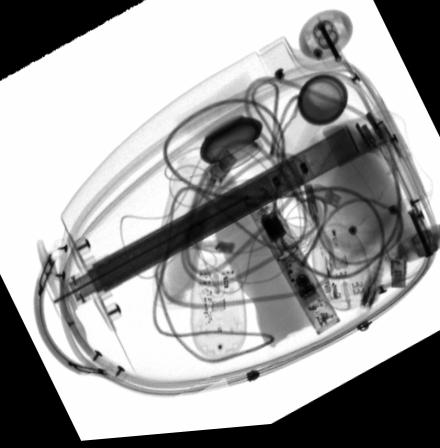Baton: (245, 194, 341, 340)
